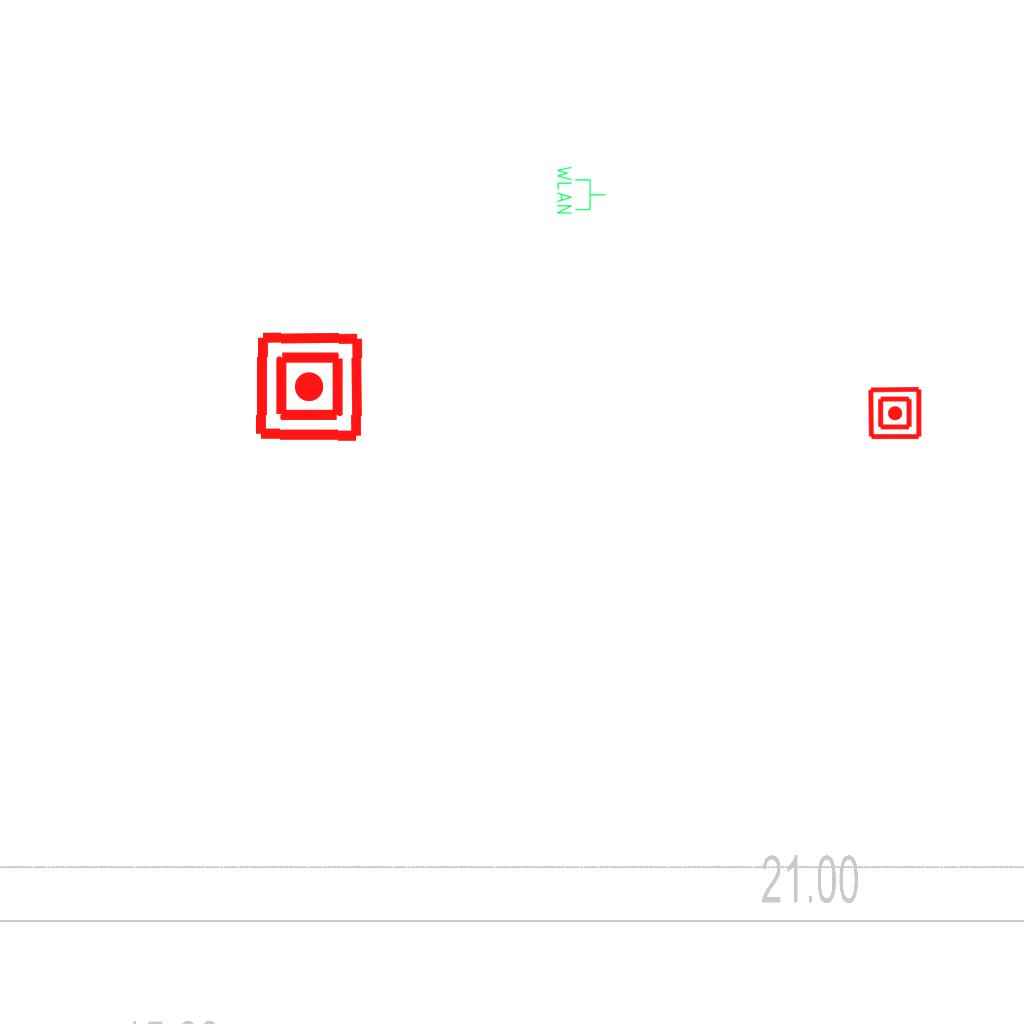NAM-Nichtautomatischer_Melder: (252, 329, 367, 444), (867, 385, 923, 441)
WLAN: (555, 164, 607, 216)
